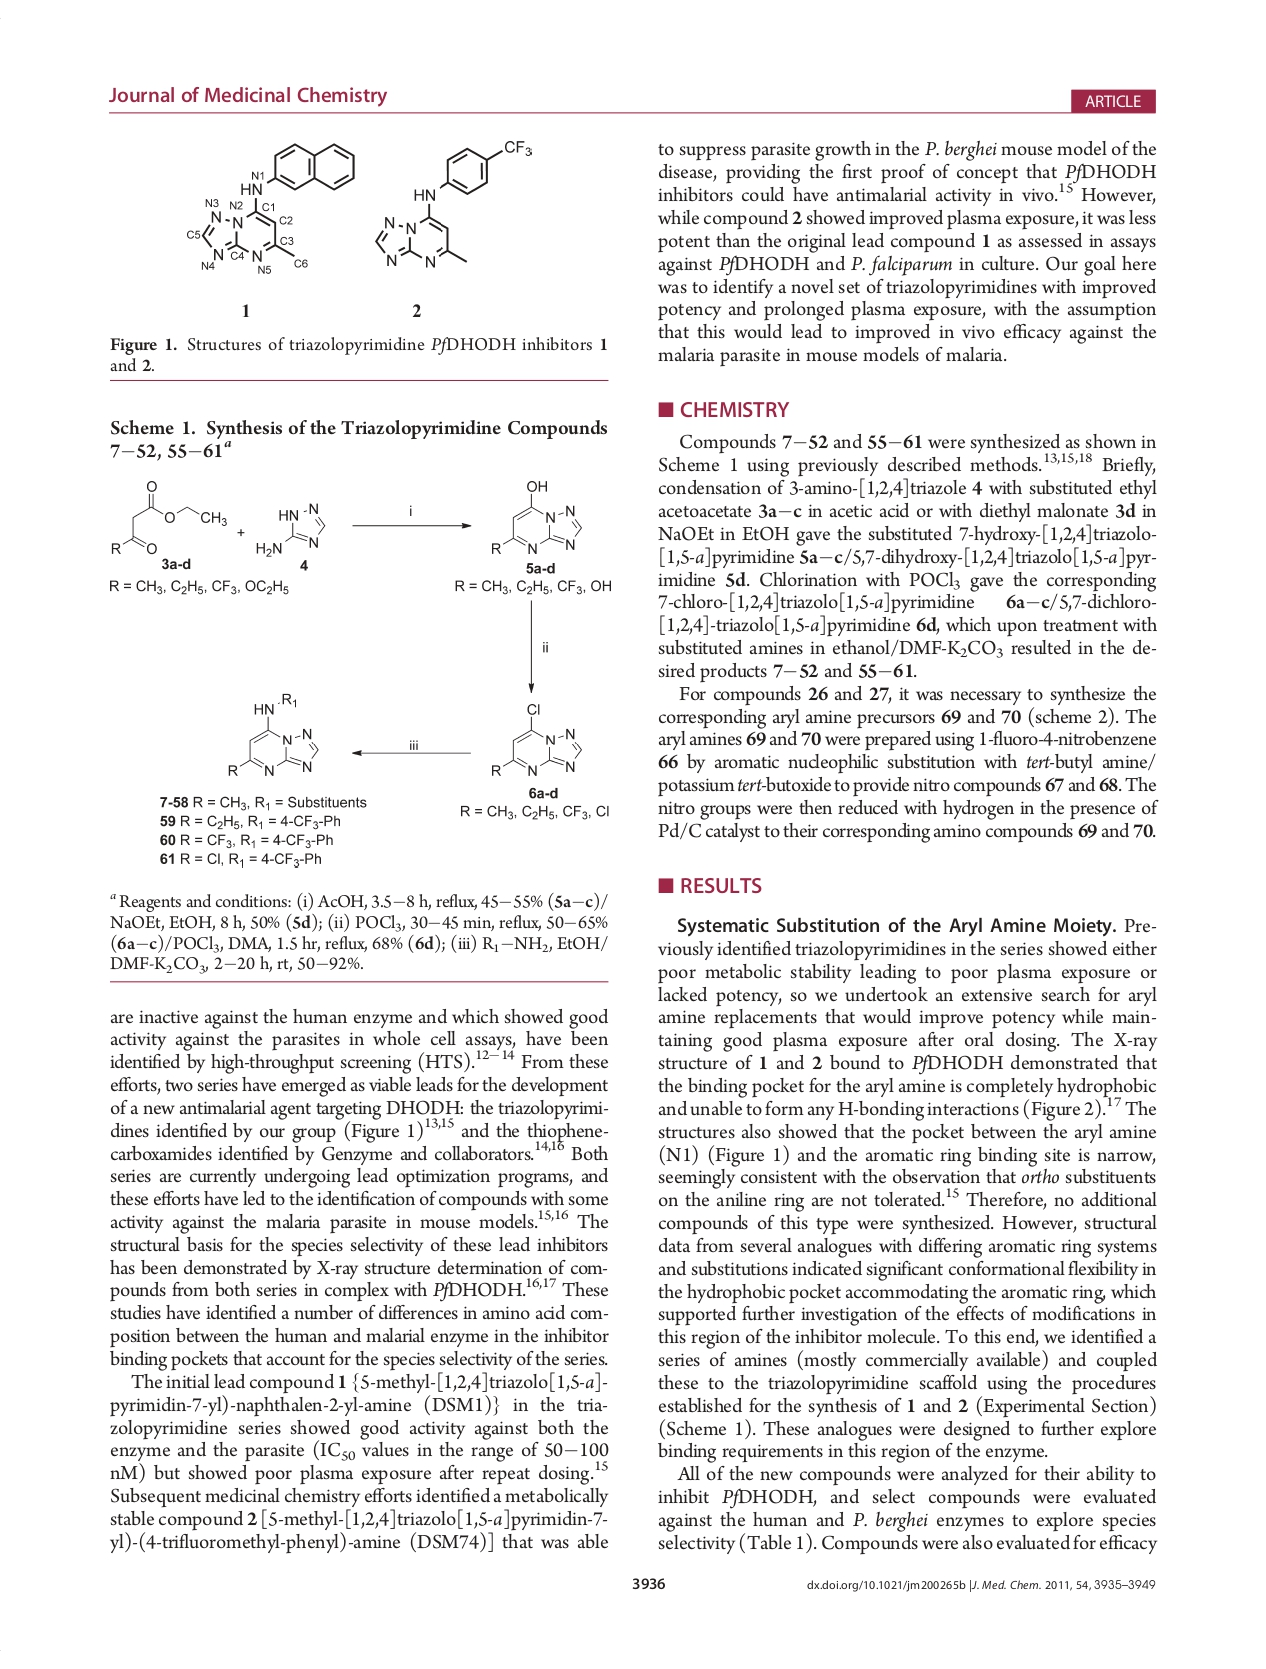exist_molecular: (185, 140, 362, 277), (370, 136, 532, 269), (108, 477, 229, 557), (227, 688, 322, 777), (488, 696, 585, 781), (488, 479, 585, 557), (255, 501, 328, 559)
